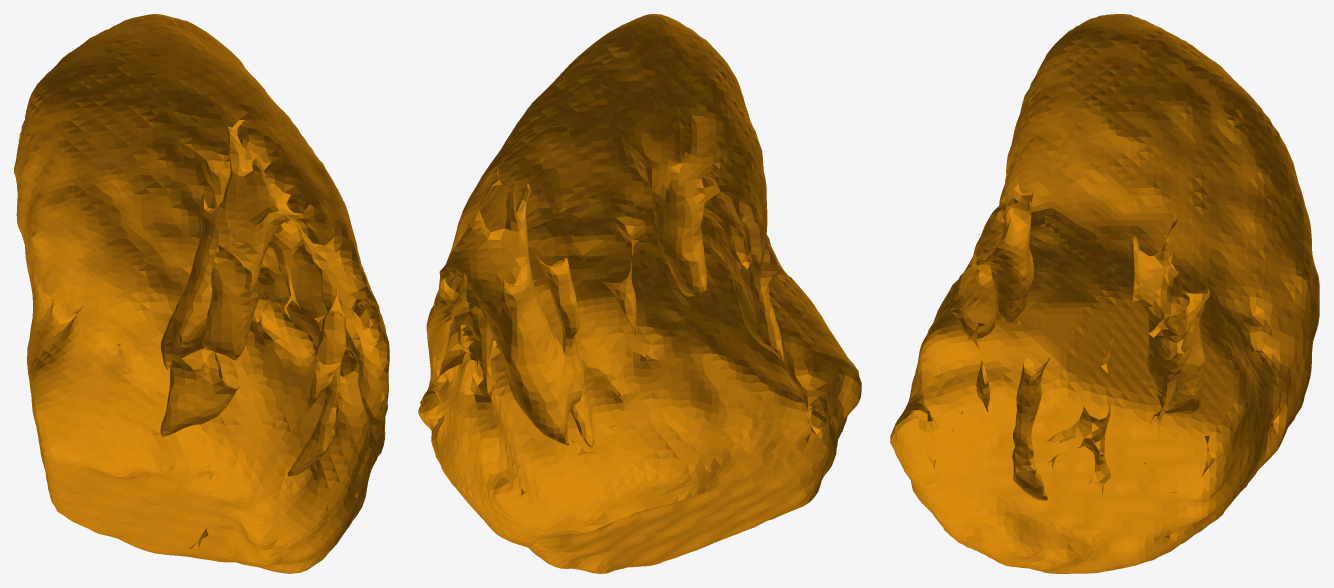
File: 83_SQZData_0-processed.glb
3 views of the same model, side by side, from view 1: azimuth 30°, elevation 25°; view 2: azimuth 150°, elevation 25°; view 3: azimuth 270°, elevation 25° (orthographic). The views are drawn at different scales.
Visible parts, largest first — view 1: Renderer Node; view 2: Renderer Node; view 3: Renderer Node.
Boxes of the visible parts, x1,y1,x2,y2 form: Renderer Node: [14, 14, 389, 573]; Renderer Node: [418, 14, 861, 573]; Renderer Node: [890, 14, 1319, 573].
Size of the model in its own units: 47.31 by 71.42 by 54.62.
